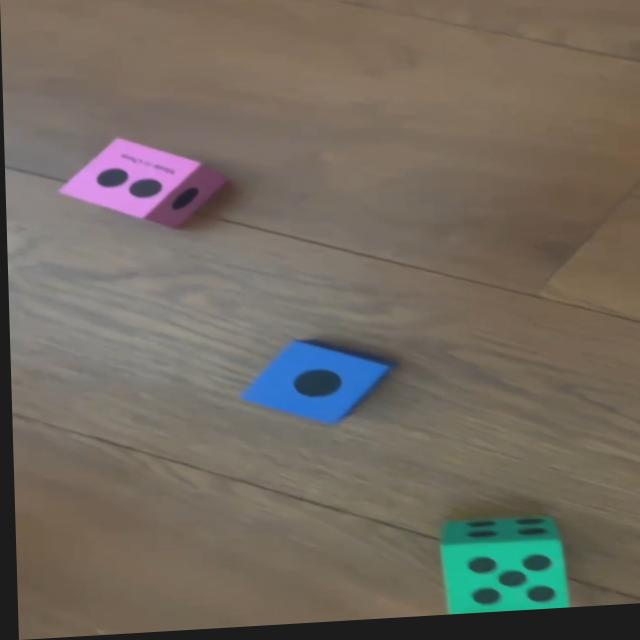cube: (242, 341, 390, 430), (436, 523, 567, 620)
